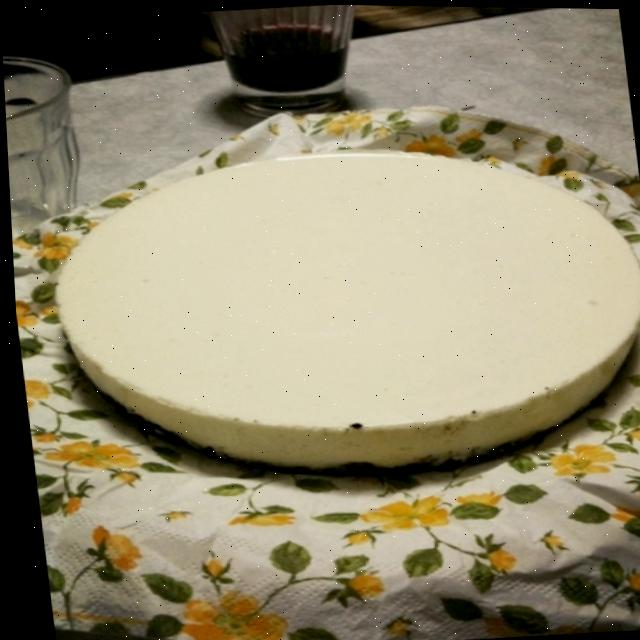蛋糕甜品: (7, 71, 640, 564)
